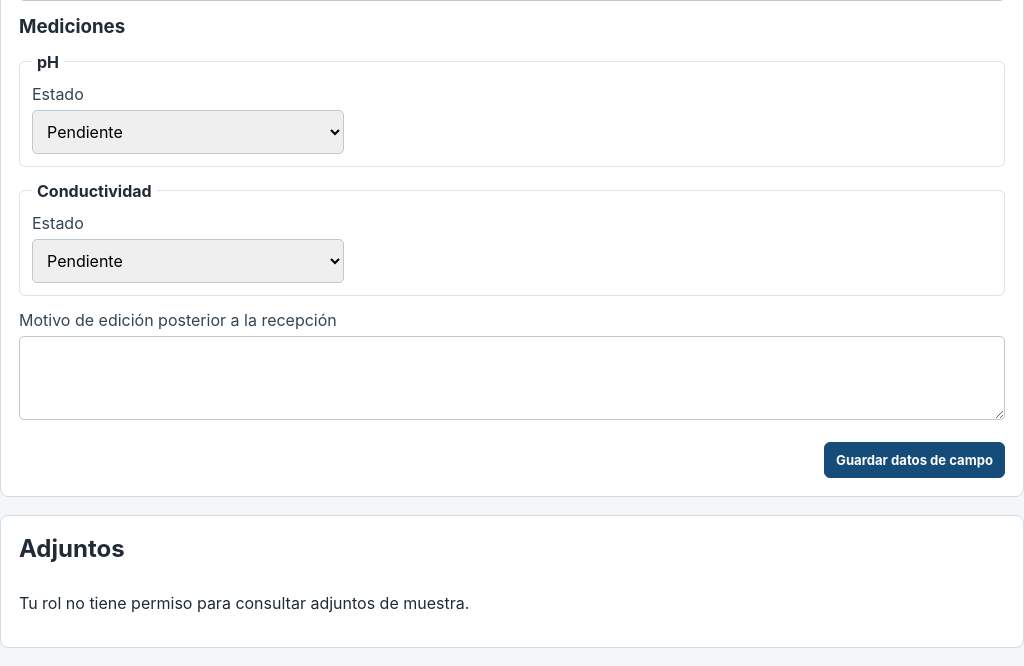
Test: datos de campo y adjuntos › rechaza una edición posterior a la recepción si no tiene motivo
This screenshot has width=1024, height=666.
(page scrolled)
Click the button "Guardar datos de campo" at (915, 460), box [824,442,1005,478]
(page scrolled)
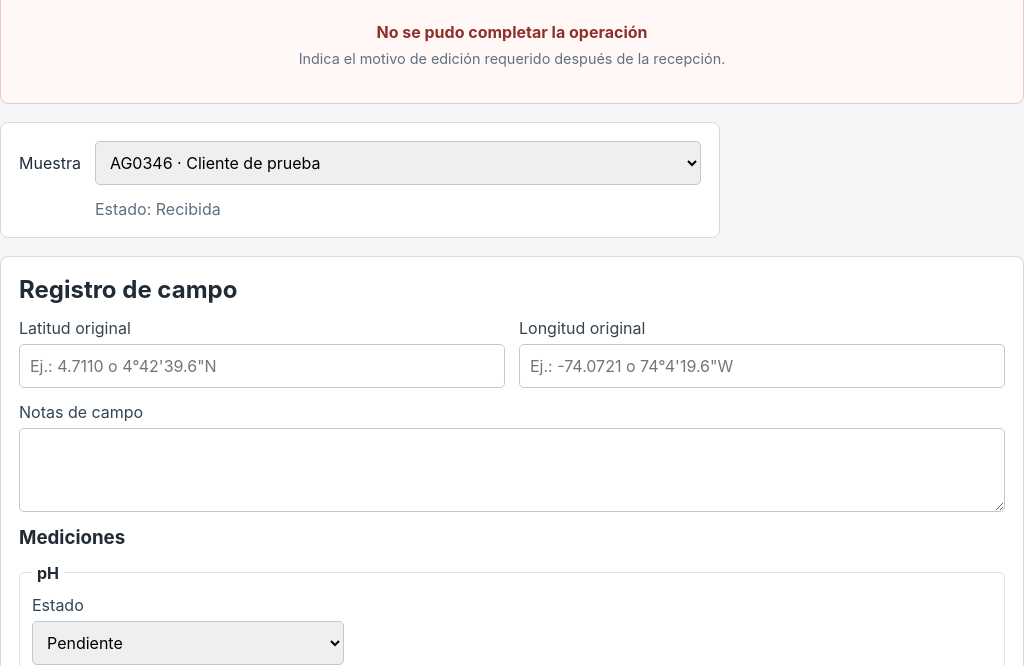
Expected: the text "Indica el motivo de edición requerido después de la recepción." is shown, [299,50,725,67]
